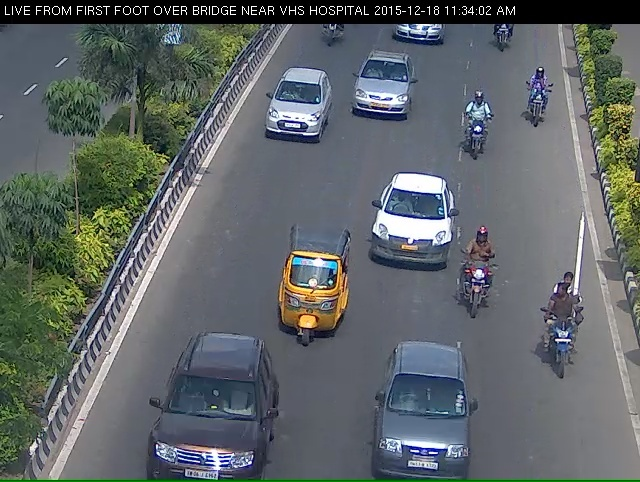Car: (140, 358, 282, 482), (373, 351, 476, 479), (262, 236, 358, 372), (359, 189, 461, 295), (260, 74, 321, 158), (349, 52, 407, 129)
Person: (540, 279, 589, 405), (459, 244, 498, 333), (461, 95, 501, 177), (519, 73, 562, 138), (313, 19, 345, 56), (491, 21, 520, 57)
